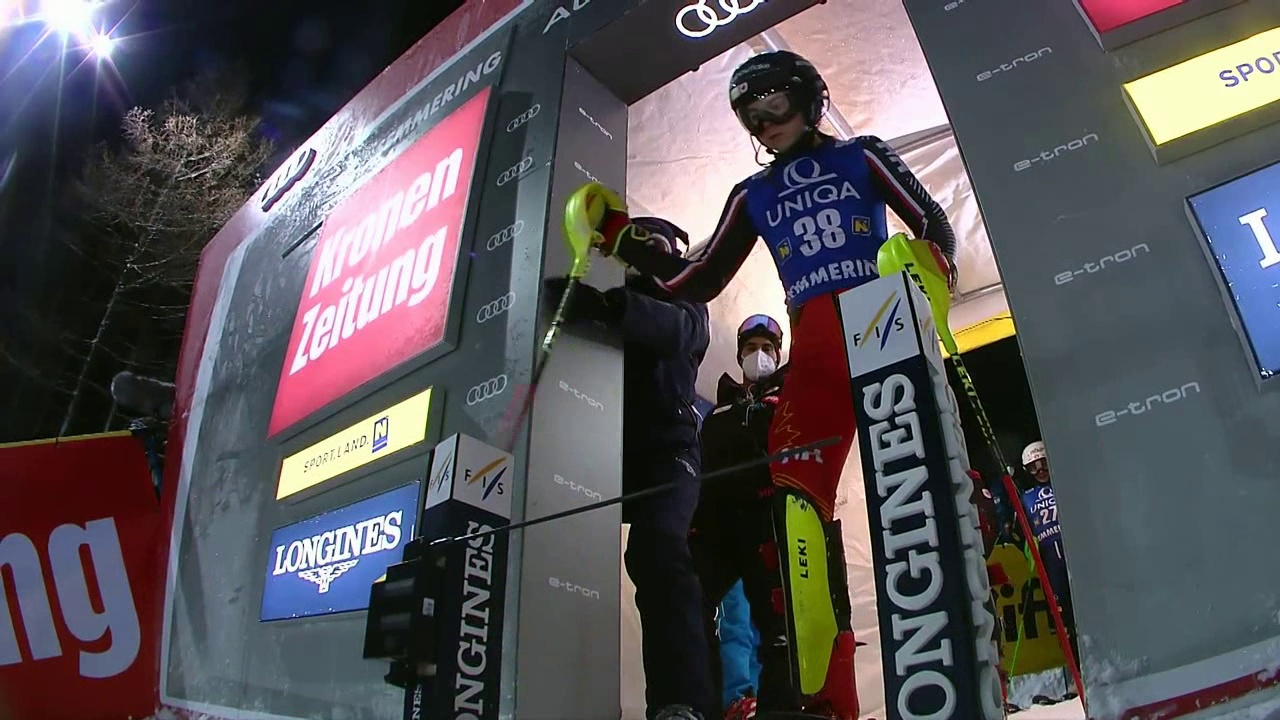audi: (665, 1, 775, 39), (538, 470, 617, 503), (457, 371, 519, 412), (478, 218, 533, 259), (469, 289, 522, 329), (501, 96, 548, 138), (494, 154, 542, 189)
etron: (970, 43, 1060, 83)
kronenzeitung: (1, 461, 132, 690)
longines: (876, 337, 963, 709), (264, 502, 419, 613), (419, 517, 502, 719)
uniqa: (769, 154, 858, 243)
